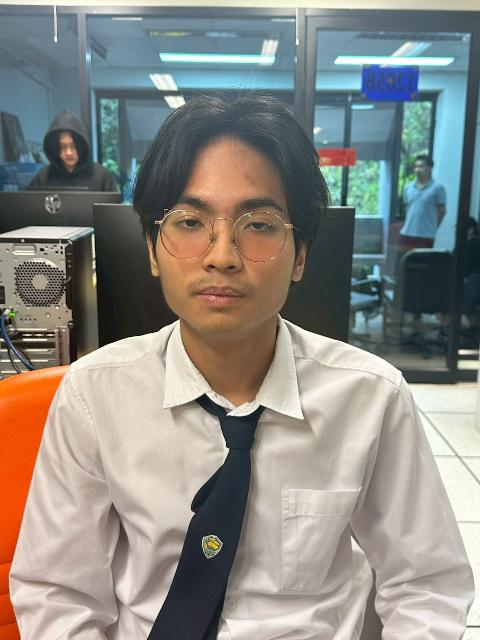fokus: (153, 101, 312, 336)
